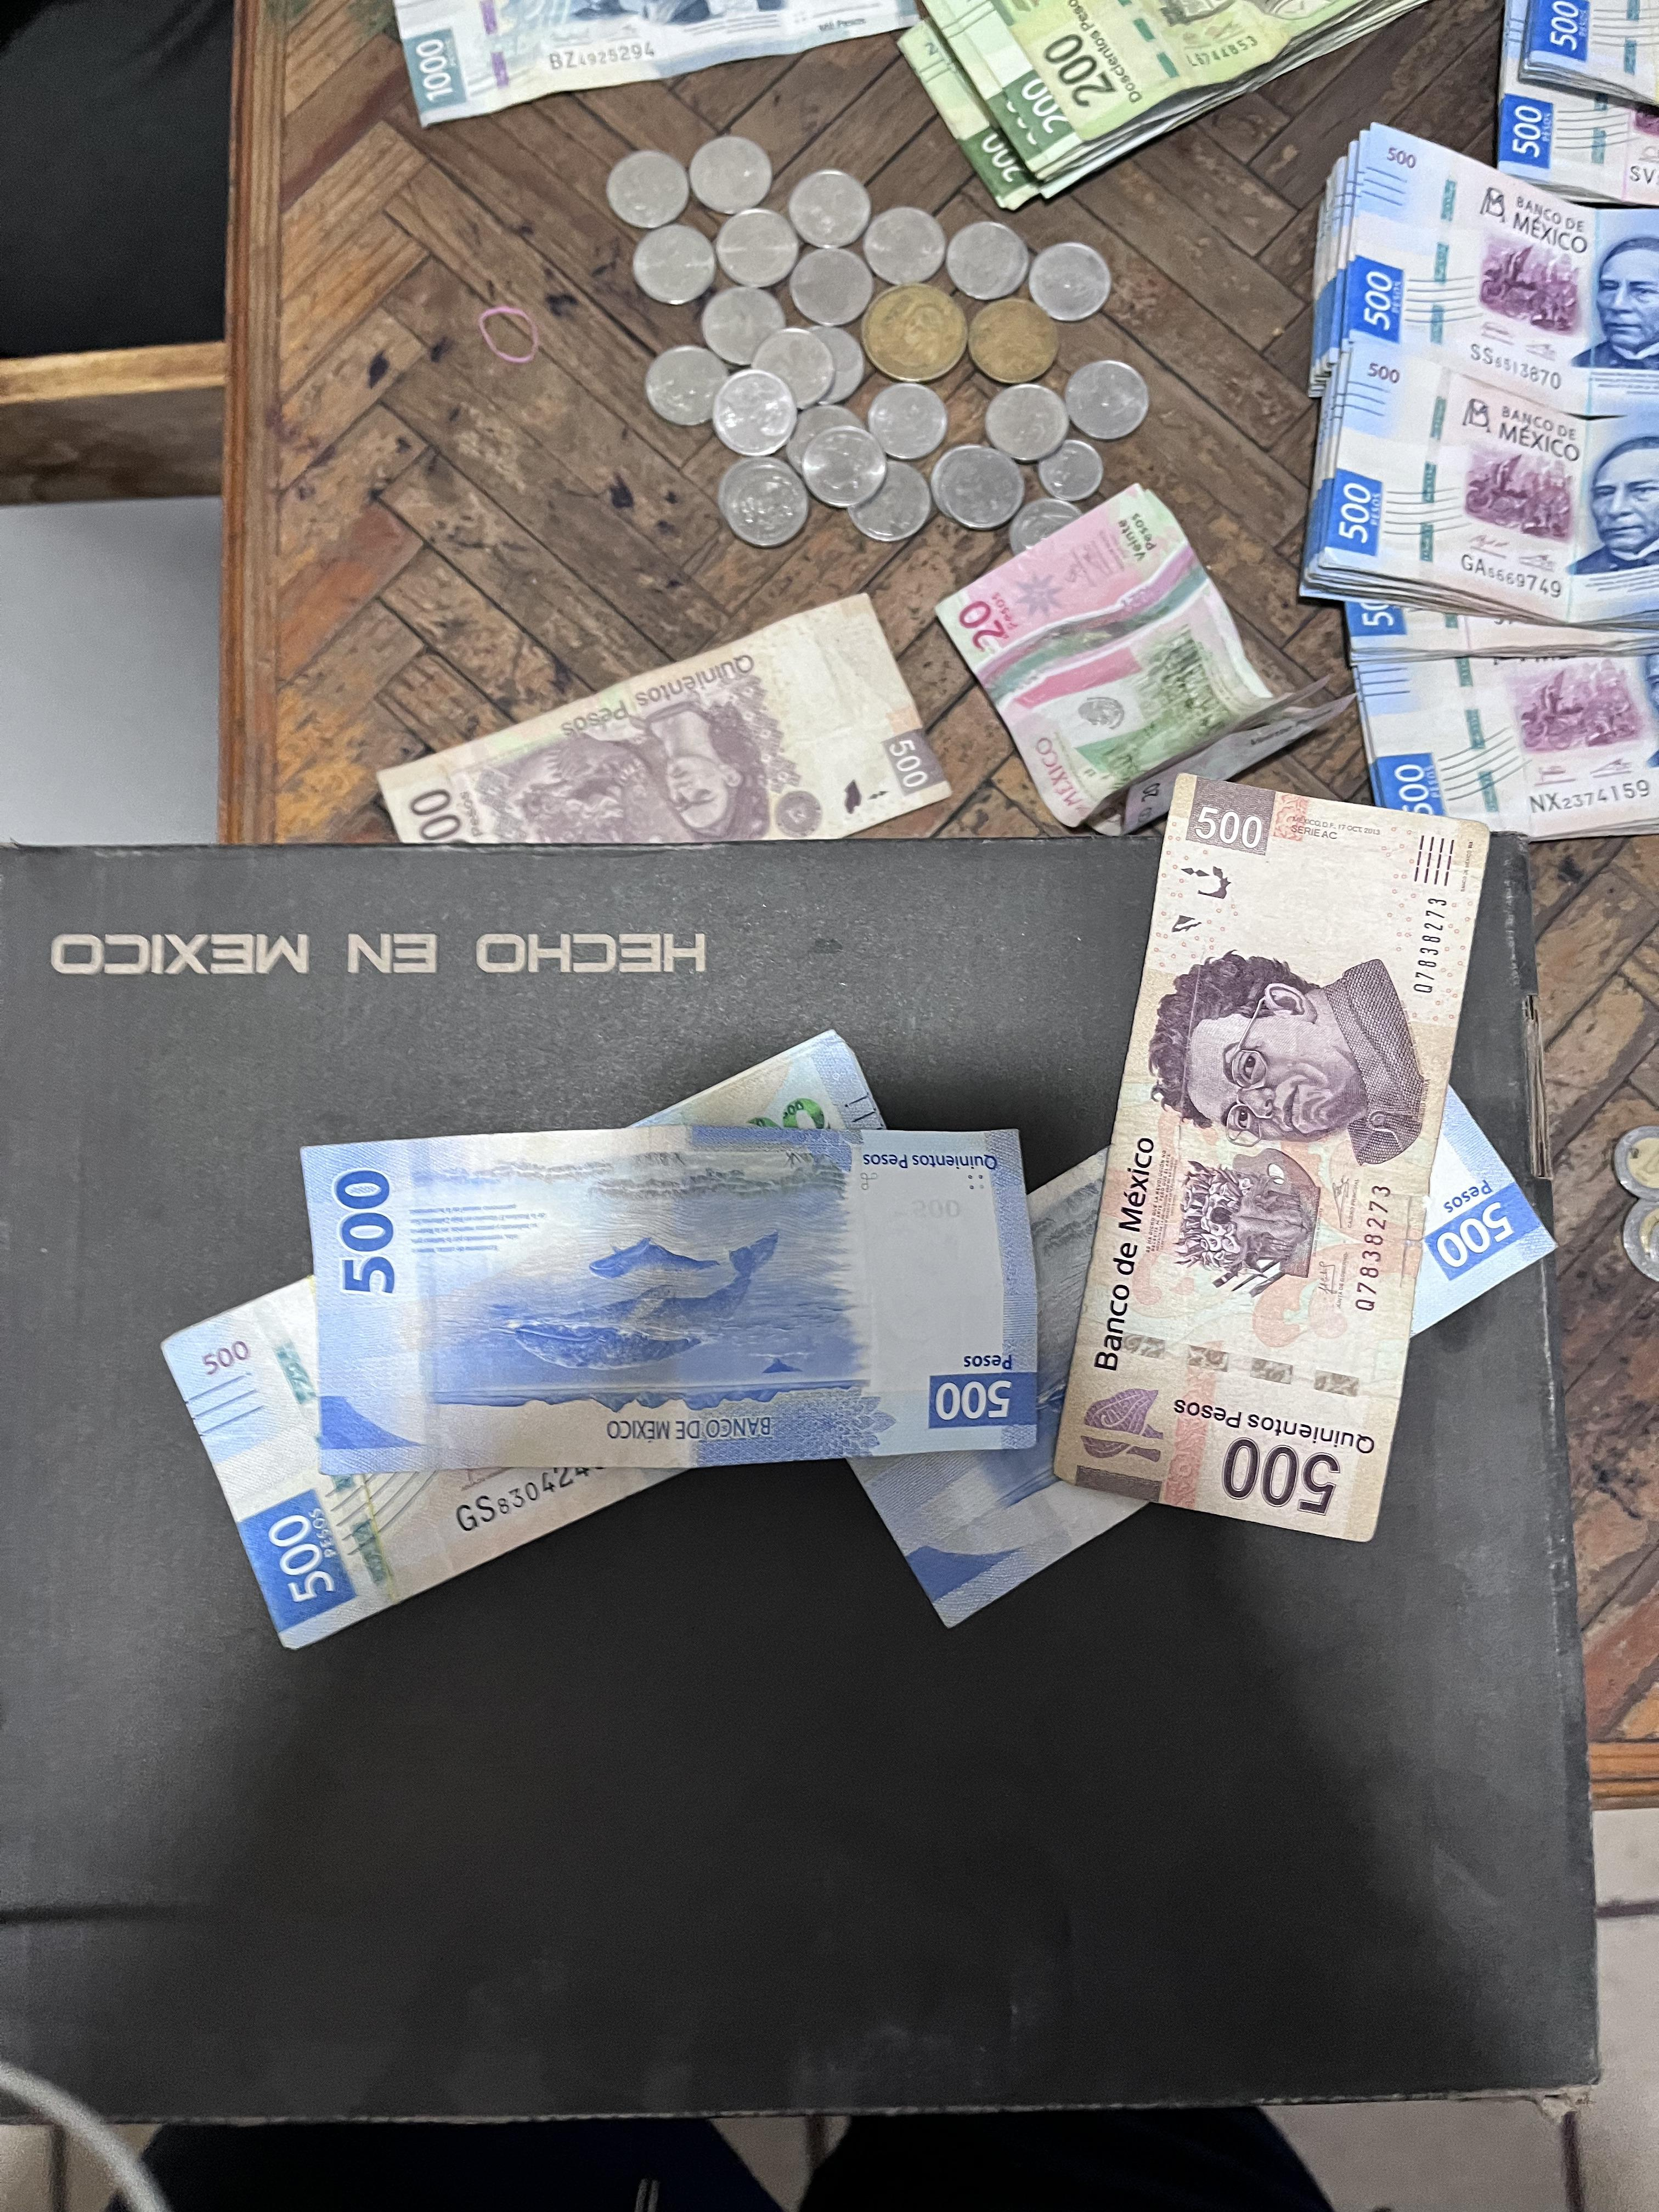1000: (369, 0, 999, 134)
20: (950, 467, 1324, 824)
200: (904, 0, 1474, 211)
500: (1061, 738, 1528, 1571), (321, 577, 948, 890)
500 nuevo: (242, 1101, 1082, 1491), (132, 1237, 653, 1655), (1272, 340, 1659, 601), (1342, 571, 1659, 852), (1304, 129, 1659, 364), (1286, 0, 1659, 199)
